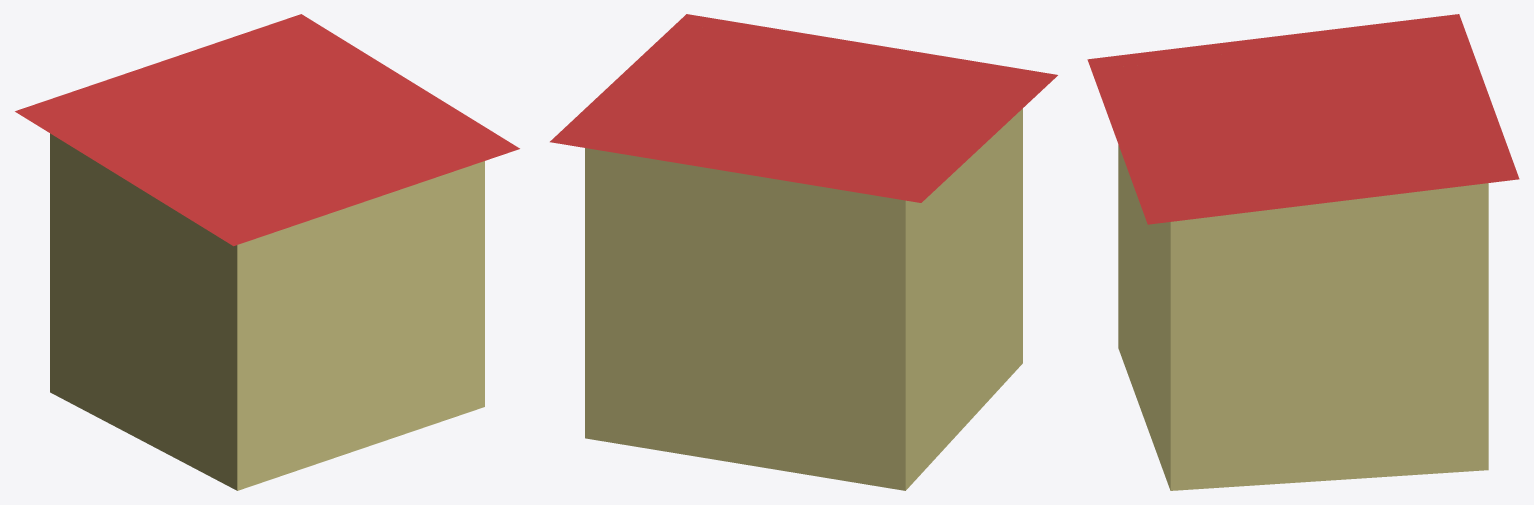
3 views of the same model, side by side, from view 1: azimuth 30°, elevation 25°; view 2: azimuth 150°, elevation 25°; view 3: azimuth 270°, elevation 25° (orthographic). The views are drawn at different scales.
Bounding box in the file's own units: 8.24 × 7.94 × 6.09.
